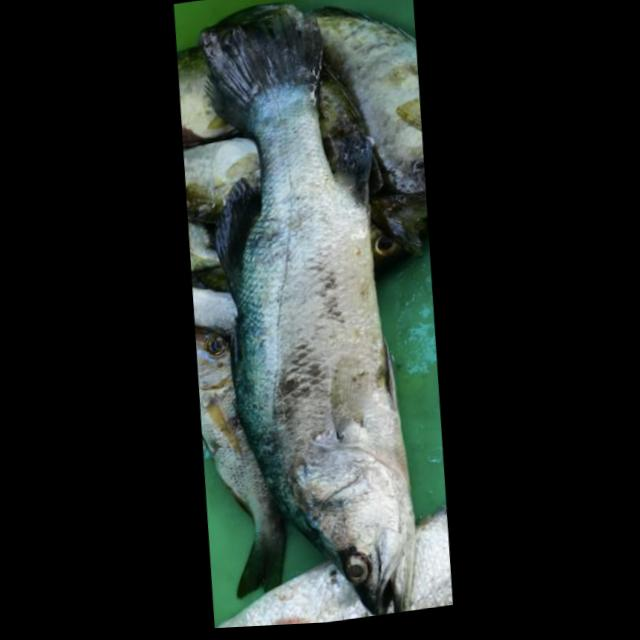Seabass: (180, 0, 432, 630)
